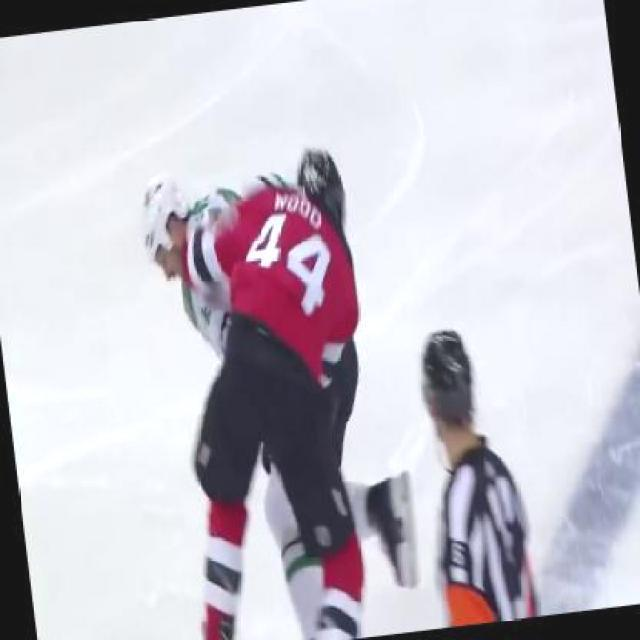fight: (129, 134, 426, 638)
